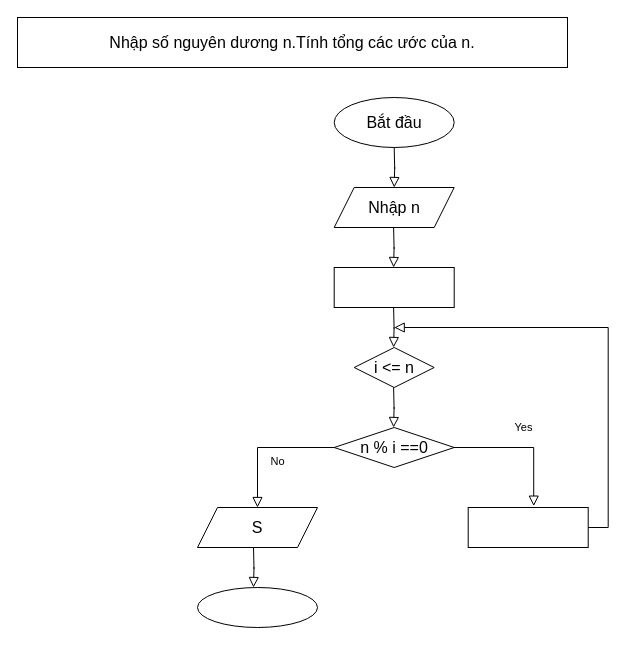
This 636x645 diagram has some shape labels left out. Here are the shapes that lost their labels. From the top down, the centre of each, then its label:
[393,287]: S= 0, i = 1
[527,527]: S = S + i i = i + 1
[257,607]: Kết thúc
